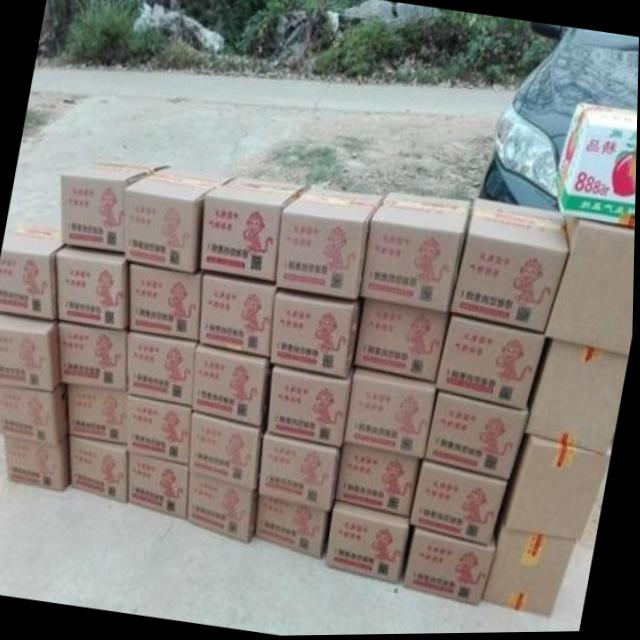box: (450, 201, 568, 332), (358, 190, 469, 310), (543, 216, 636, 358), (526, 339, 629, 459), (505, 434, 610, 544), (199, 177, 309, 281), (278, 190, 382, 298), (436, 318, 549, 411), (123, 169, 228, 269), (557, 102, 638, 230), (62, 157, 168, 250), (425, 389, 528, 483), (483, 529, 581, 618), (353, 299, 452, 387), (411, 461, 513, 546), (344, 369, 438, 460), (271, 291, 360, 378), (406, 529, 498, 607), (192, 346, 273, 432), (327, 504, 416, 582), (269, 368, 353, 447), (260, 436, 344, 515), (199, 276, 279, 358), (337, 447, 424, 521), (54, 248, 131, 328), (0, 222, 63, 318), (189, 416, 265, 491), (128, 265, 203, 340), (187, 468, 260, 544), (127, 335, 196, 409), (58, 321, 130, 391), (0, 312, 61, 393), (259, 495, 331, 561), (0, 383, 70, 449), (128, 399, 194, 465), (128, 455, 189, 520), (70, 439, 128, 506), (67, 386, 128, 449), (3, 437, 72, 490)
